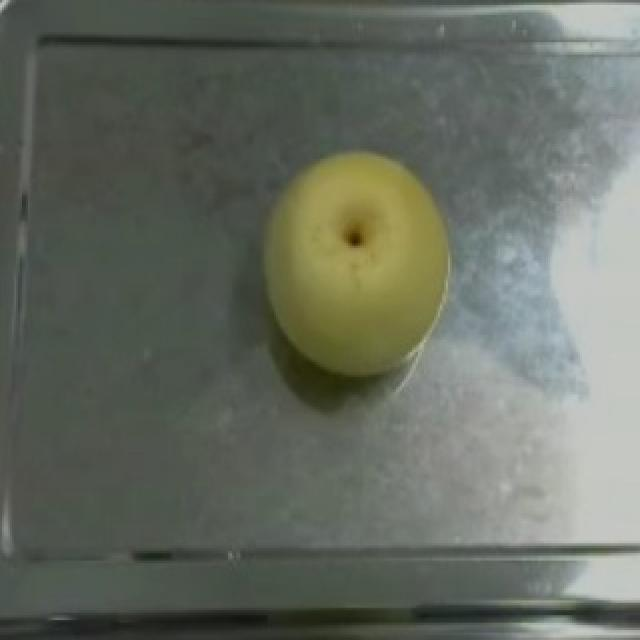Fruit: (246, 136, 464, 387)
